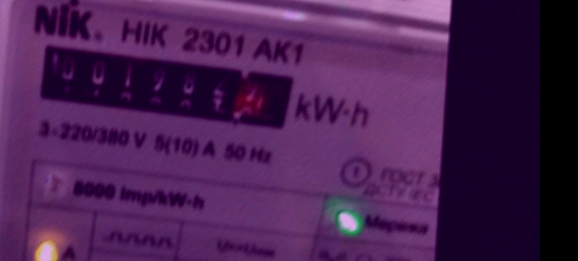0: (88, 57, 107, 87), (58, 52, 76, 82)
1: (120, 59, 134, 88)
2: (210, 67, 229, 97)
8: (180, 66, 197, 95)
9: (240, 75, 262, 105), (149, 63, 166, 93)
screen: (21, 30, 308, 143)
